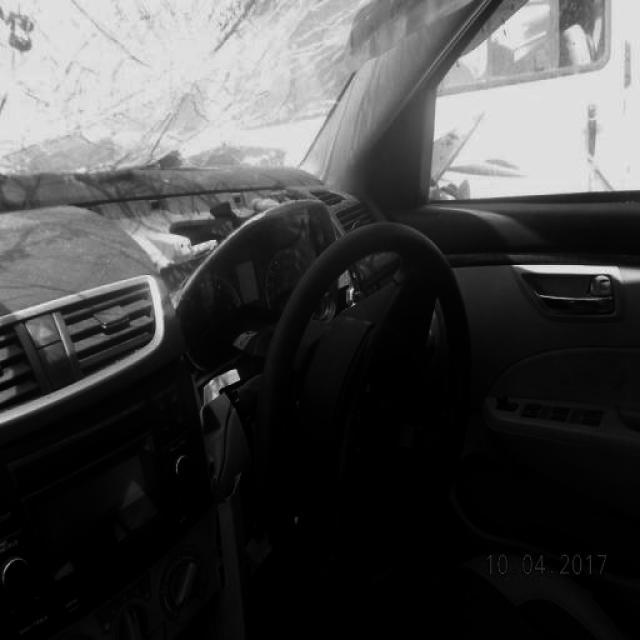car damage: (1, 2, 321, 147)
